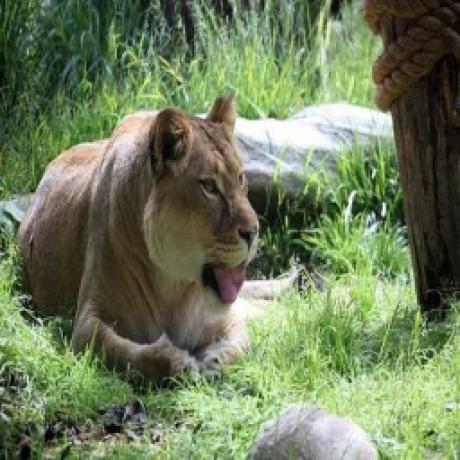Lion: (13, 80, 265, 391)
